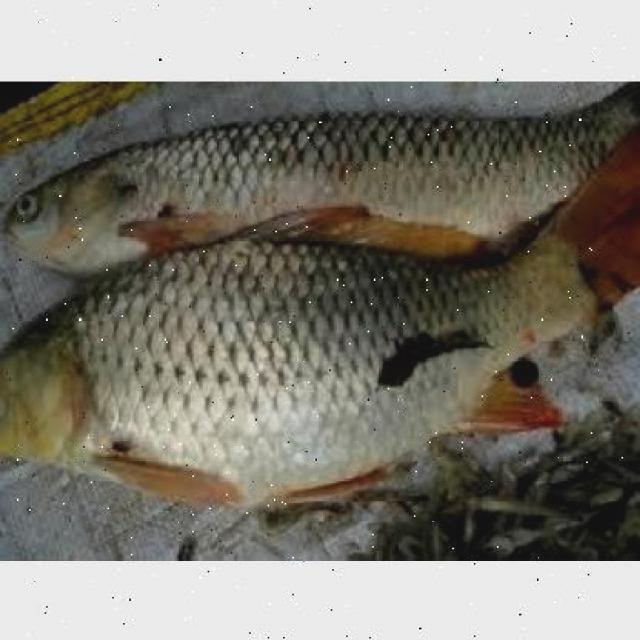ikan-mas: (2, 226, 616, 503), (0, 80, 640, 280)
